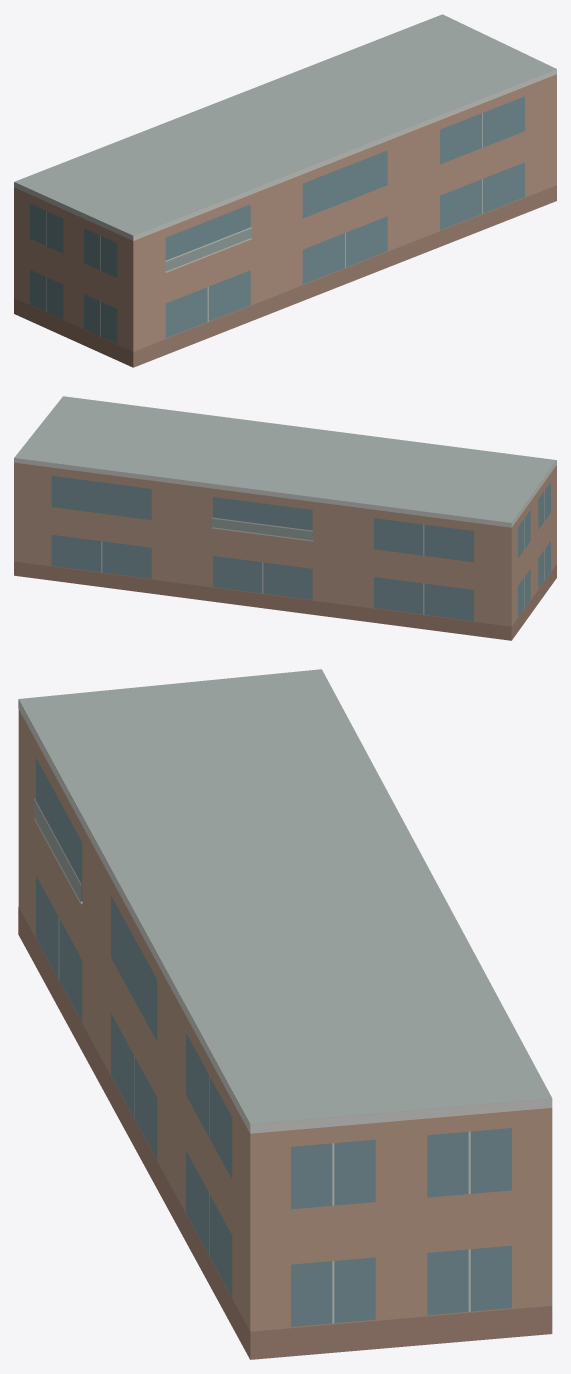
The model's file is survey-upis-32619854.glb.
The picture shows the model from 3 angles, top to bottom: view 1: azimuth 30°, elevation 25°; view 2: azimuth 150°, elevation 25°; view 3: azimuth 270°, elevation 25°; orthographic projection. The views are drawn at different scales.
Visible parts, largest first — view 1: survey-upis-32619854.tmp; view 2: survey-upis-32619854.tmp; view 3: survey-upis-32619854.tmp.
Part boxes in pixels (x1,y1,x2,y2): survey-upis-32619854.tmp: (14, 14, 556, 367); survey-upis-32619854.tmp: (14, 396, 556, 640); survey-upis-32619854.tmp: (18, 669, 552, 1359).
Bounding box in the file's own units: 25.3 × 6.1 × 12.55.
